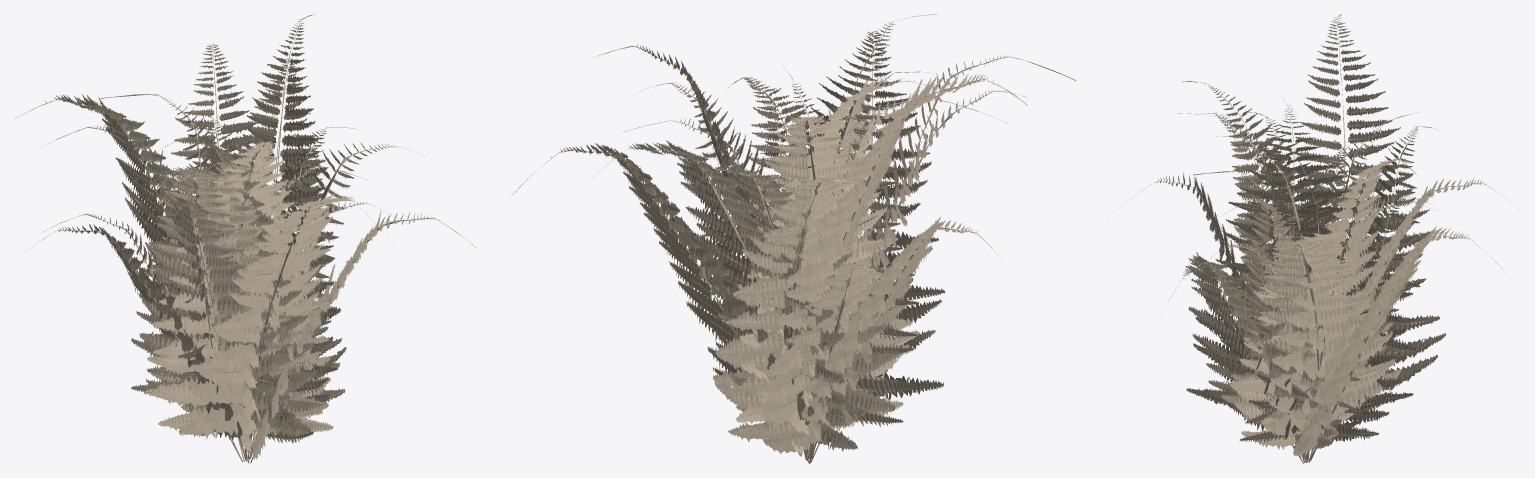
File: 3dcodebench_Fern_seed0_L1_Q0__gemini4argon.glb
3 views of the same model, side by side, from view 1: azimuth 30°, elevation 25°; view 2: azimuth 150°, elevation 25°; view 3: azimuth 270°, elevation 25° (orthographic). The views are drawn at different scales.
Parts seen in each view (by area): view 1: object; view 2: object; view 3: object.
Boxes of the visible parts, x1=… form: object: x1=14, y1=14, x2=475, y2=463; object: x1=509, y1=14, x2=1076, y2=463; object: x1=1112, y1=14, x2=1518, y2=463.
Bounding box in the file's own units: 1.86 × 1.81 × 1.86.
